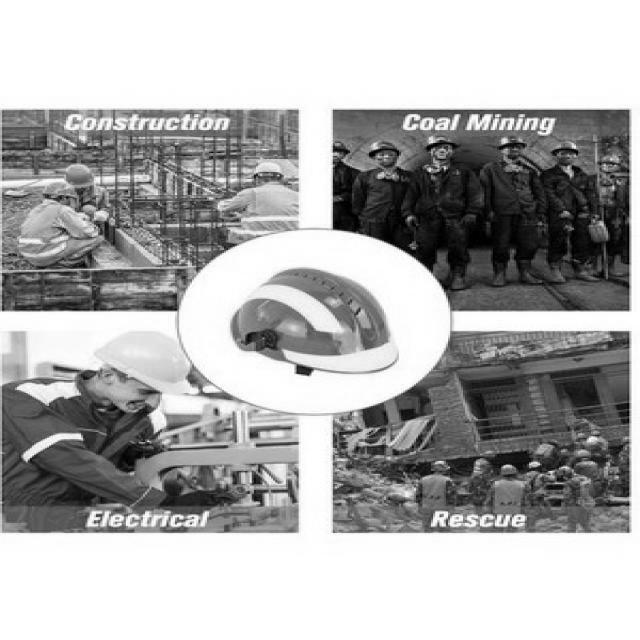construction helmet: (233, 269, 399, 374), (92, 329, 198, 397), (248, 158, 286, 190), (64, 166, 96, 188), (43, 181, 70, 196)
